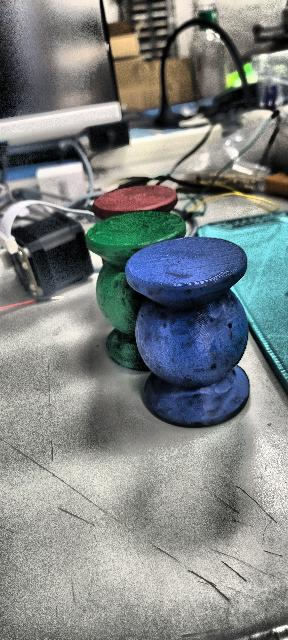blue: (126, 239, 252, 421)
green: (85, 210, 190, 372)
red: (93, 186, 179, 217)
